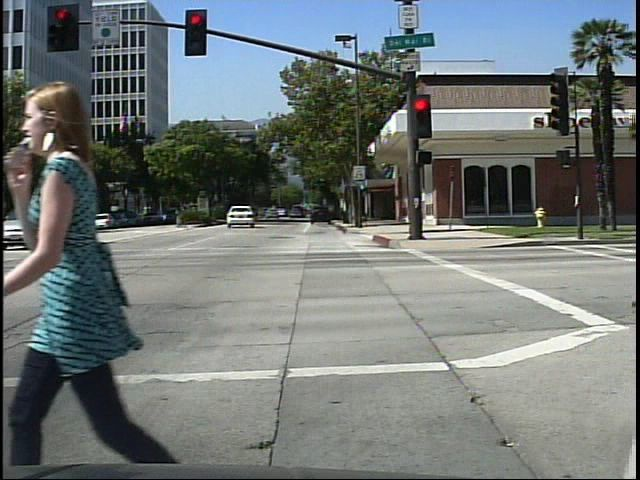person: (14, 64, 199, 467)
